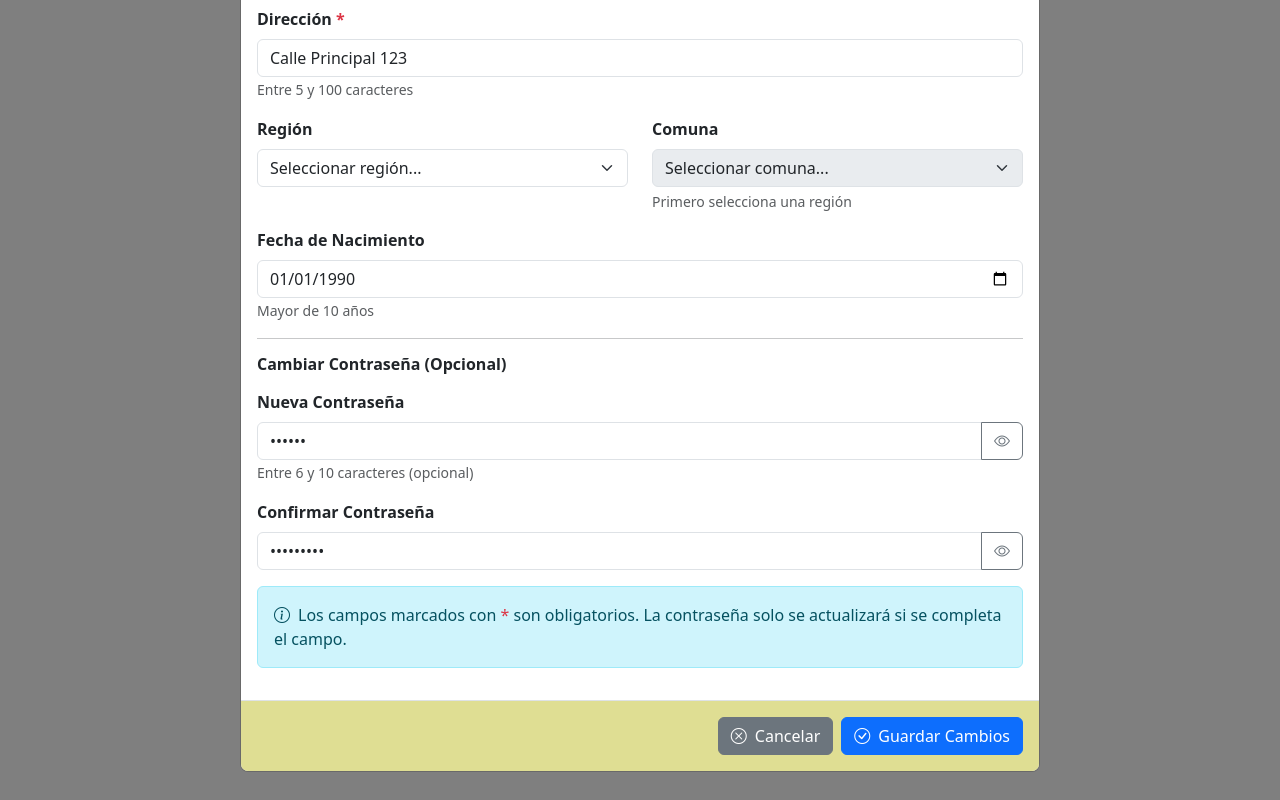
Test: PerfilModal › debería validar contraseñas coincidentes
(page scrolled)
Click the button "Guardar Cambios": coordinates (932, 736) [841, 717, 1023, 755]
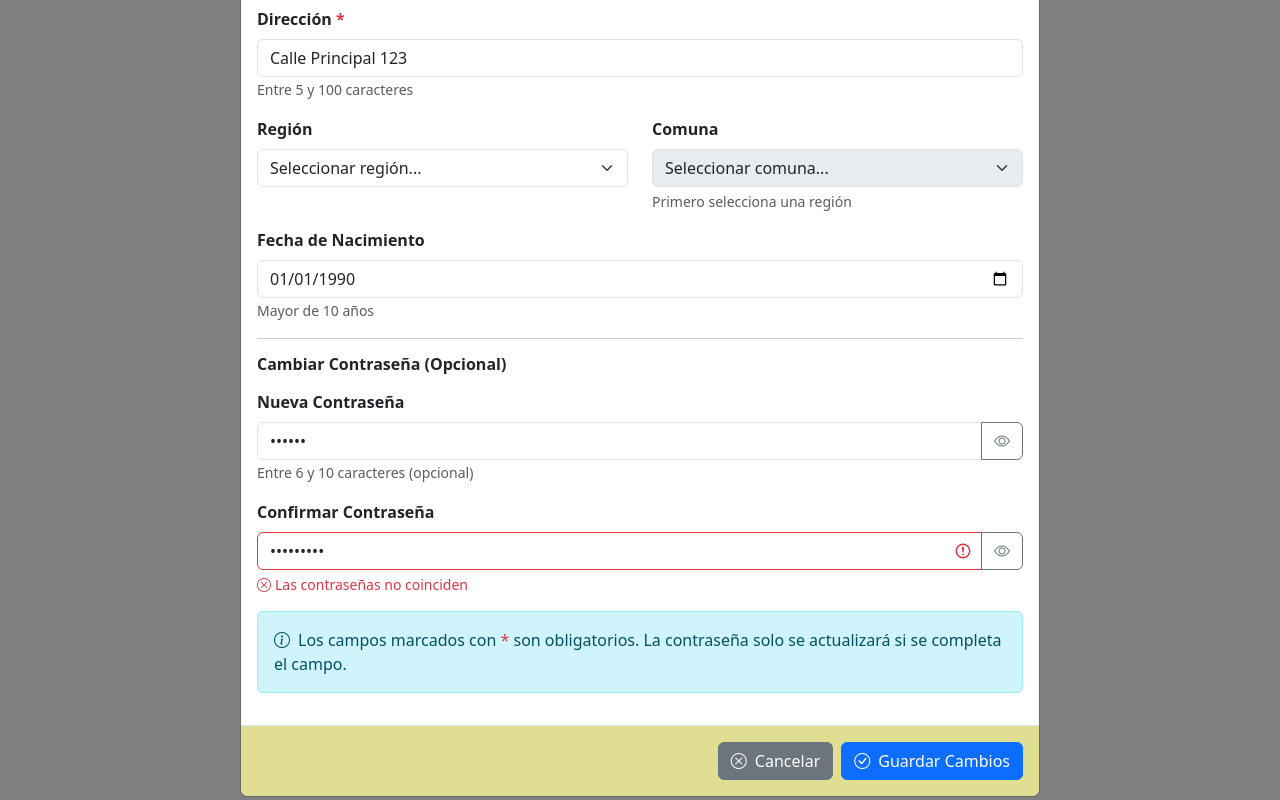
Now the text "Las contraseñas no coinciden" is shown, box [257, 575, 468, 594]
